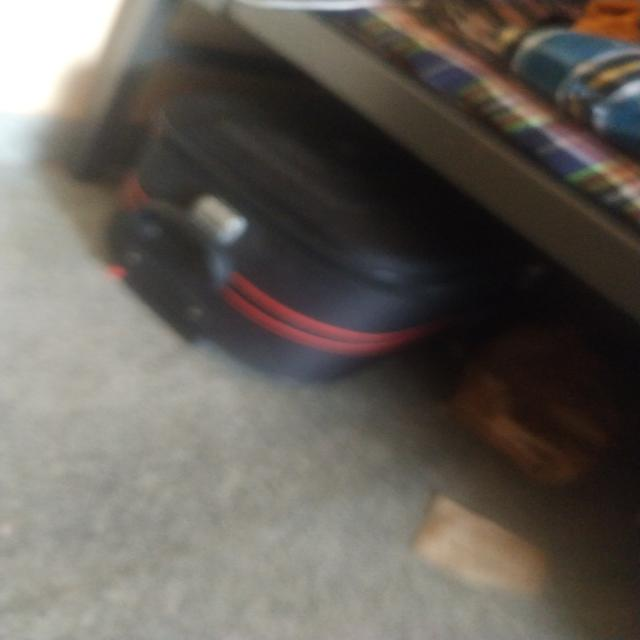suitcaserotation: (97, 69, 500, 386)
